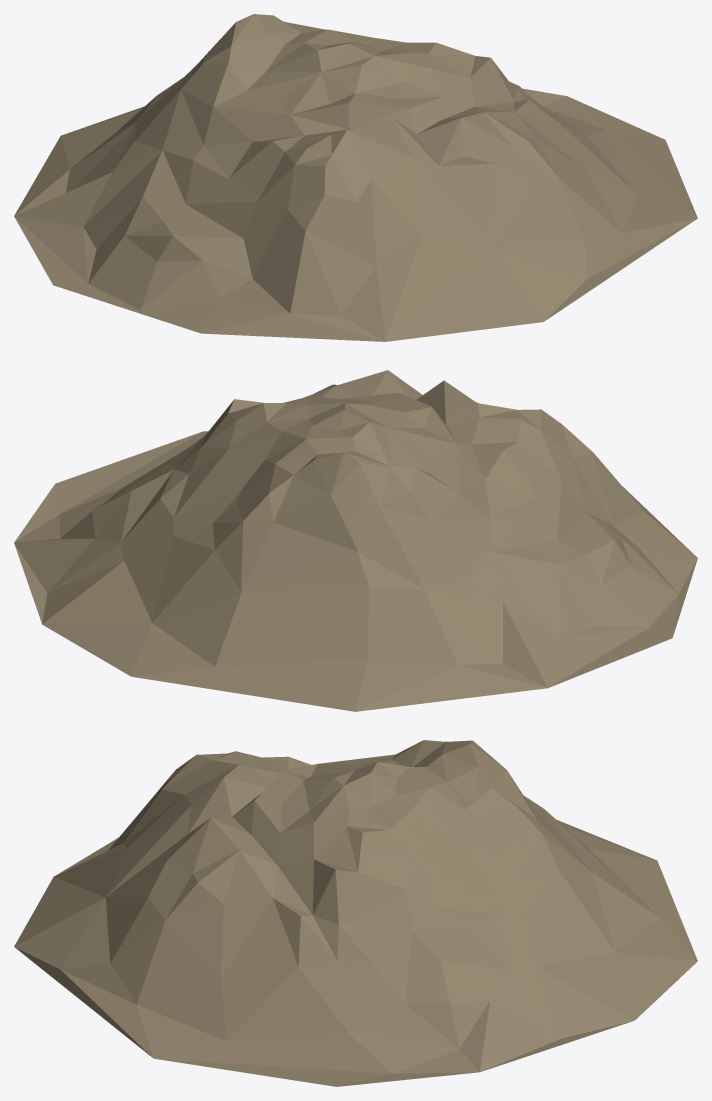
File: Mountain_4.fbx
The picture shows the model from 3 angles, top to bottom: view 1: azimuth 30°, elevation 25°; view 2: azimuth 150°, elevation 25°; view 3: azimuth 270°, elevation 25°; orthographic projection. The views are drawn at different scales.
Visible parts, largest first — view 1: Mountain_4; view 2: Mountain_4; view 3: Mountain_4.
Part boxes in pixels (<box>): Mountain_4: <box>14,14,697,341</box>; Mountain_4: <box>14,370,697,711</box>; Mountain_4: <box>14,740,697,1086</box>.
Size of the model in its own units: 819 by 213 by 772.
